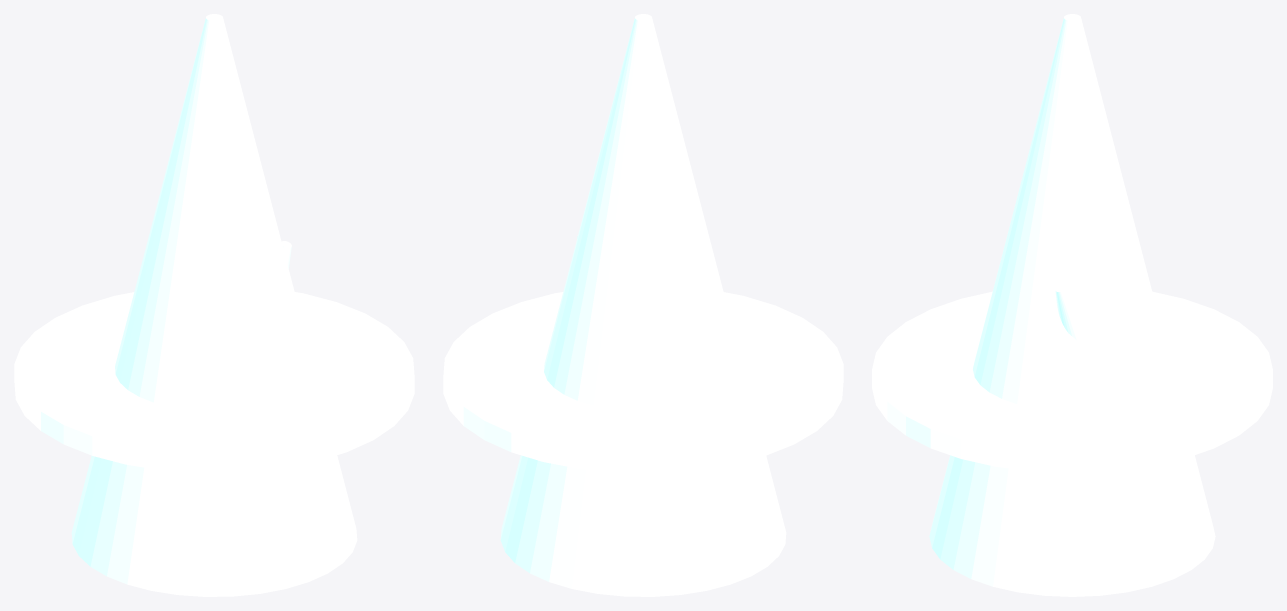
The model's file is ice_crystal.glb.
3 renders of one model, left to right at view 1: azimuth 30°, elevation 25°; view 2: azimuth 150°, elevation 25°; view 3: azimuth 270°, elevation 25°, orthographic.
Visible parts, largest first — view 1: Cone, Cylinder; view 2: Cone, Cylinder; view 3: Cone, Cylinder, Cone.001.
Part boxes in pixels (x1,y1,x2,y2): Cone: [71, 14, 357, 596]; Cylinder: [14, 292, 414, 473]; Cone: [500, 14, 786, 596]; Cylinder: [443, 292, 843, 473]; Cone: [929, 14, 1215, 596]; Cylinder: [872, 291, 1272, 473]; Cone.001: [1055, 284, 1084, 341].
Size of the model in its own units: 0.6957 by 0.9938 by 0.6957.
